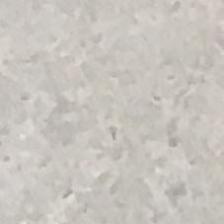Non_Crack: (25, 16, 212, 224)
